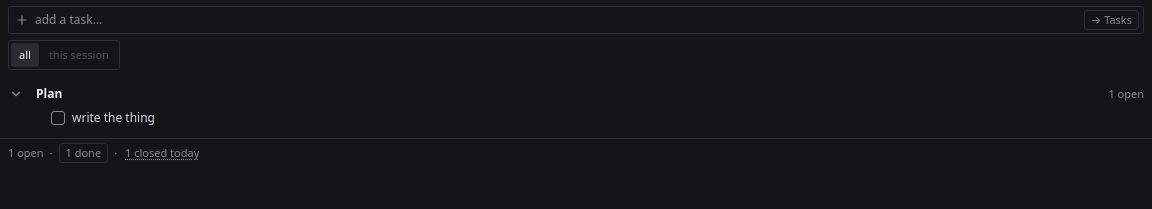
it: the tasks panel › opens the closures of the day with their notes
The width and height of the screenshot is (1152, 209).
Click the button "1 closed today".
click(162, 153)  # box [123,145,201,161]
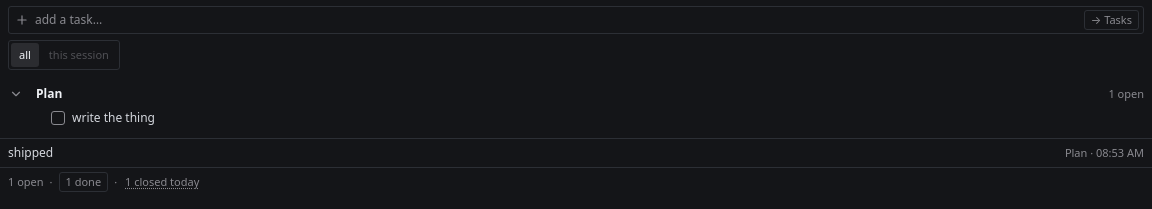
Result: the text "shipped" is shown at [8,144,53,161]
Result: the text "Plan · 08:53 AM" is shown at [1065,145,1144,161]
